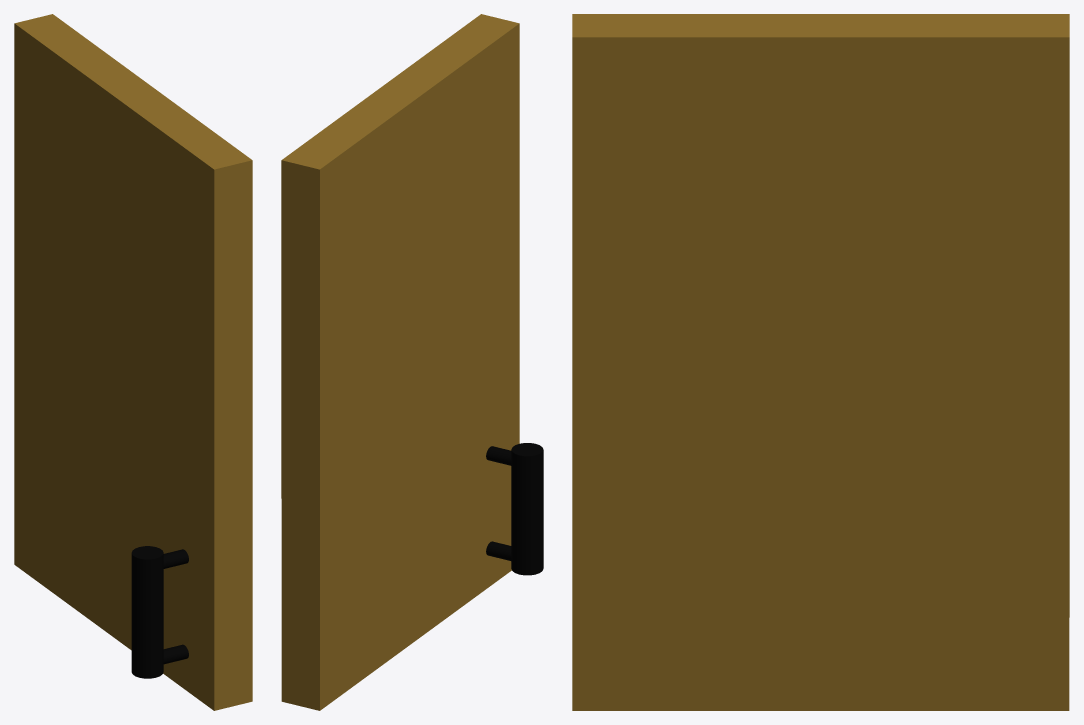
Rendered from puerta izquierda.fbx.
The picture shows the model from 3 angles, left to right: view 1: azimuth 30°, elevation 25°; view 2: azimuth 150°, elevation 25°; view 3: azimuth 270°, elevation 25°; orthographic projection. The views are drawn at different scales.
Visible parts, largest first — view 1: Box051; view 2: Box051; view 3: Box051.
Part boxes in pixels (x1,y1,x2,y2): Box051: [14, 14, 252, 710]; Box051: [281, 14, 543, 710]; Box051: [572, 14, 1069, 710].
Size of the model in its own units: 8.96 by 51.96 by 34.75.
